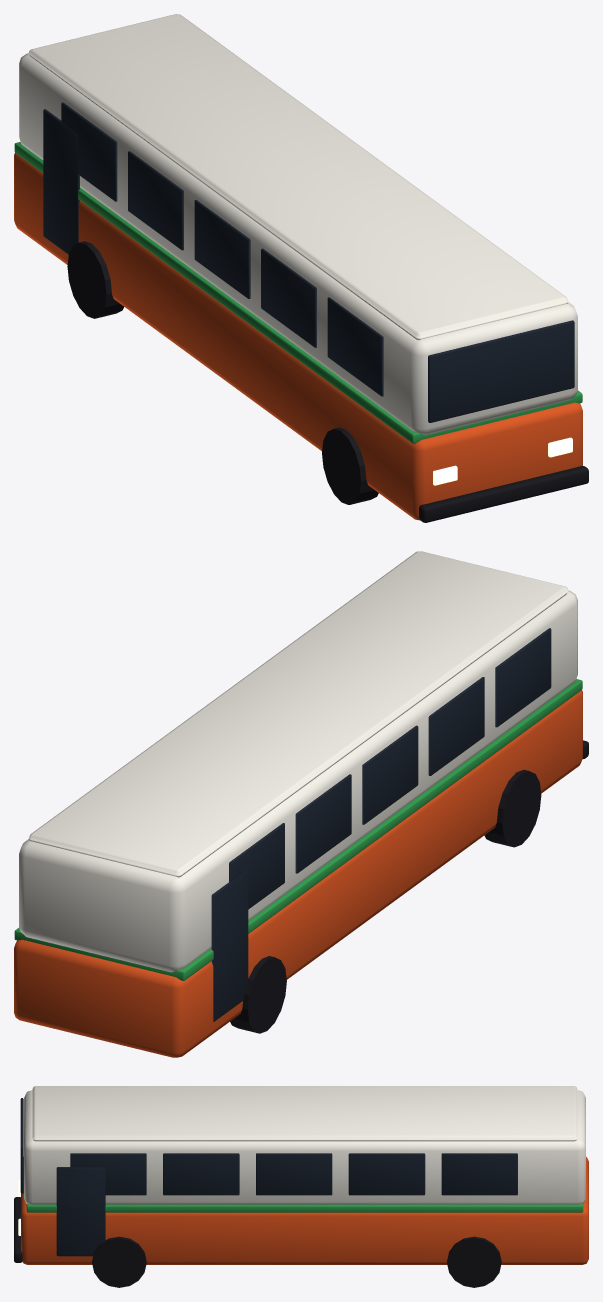
File: bus-kota.glb
3 renders of one model, top to bottom at view 1: azimuth 30°, elevation 25°; view 2: azimuth 150°, elevation 25°; view 3: azimuth 270°, elevation 25°, orthographic. The views are drawn at different scales.
Visible parts, largest first — view 1: EX_BK_Putih, EX_BK_Badan, EX_BK_Kaca, EX_BK_Ban, EX_BK_Hijau, EX_BK_Lampu; view 2: EX_BK_Putih, EX_BK_Badan, EX_BK_Kaca, EX_BK_Hijau, EX_BK_Ban; view 3: EX_BK_Putih, EX_BK_Badan, EX_BK_Kaca, EX_BK_Ban, EX_BK_Hijau.
Boxes of the visible parts, x1=… form: EX_BK_Putih: x1=19, y1=14, x2=577, y2=435; EX_BK_Badan: x1=14, y1=153, x2=582, y2=520; EX_BK_Kaca: x1=43, y1=102, x2=574, y2=422; EX_BK_Ban: x1=67, y1=241, x2=588, y2=522; EX_BK_Hijau: x1=14, y1=142, x2=582, y2=443; EX_BK_Lampu: x1=433, y1=437, x2=572, y2=485; EX_BK_Putih: x1=19, y1=551, x2=577, y2=972; EX_BK_Badan: x1=14, y1=690, x2=582, y2=1057; EX_BK_Kaca: x1=211, y1=628, x2=551, y2=1021; EX_BK_Hijau: x1=14, y1=679, x2=582, y2=980; EX_BK_Ban: x1=230, y1=740, x2=588, y2=1033; EX_BK_Putih: x1=24, y1=1086, x2=585, y2=1204; EX_BK_Badan: x1=21, y1=1157, x2=588, y2=1264; EX_BK_Kaca: x1=20, y1=1098, x2=517, y2=1256; EX_BK_Ban: x1=14, y1=1197, x2=501, y2=1287; EX_BK_Hijau: x1=26, y1=1204, x2=583, y2=1212.
Bounding box in the file's own units: 2.66 × 2.96 × 10.53.
